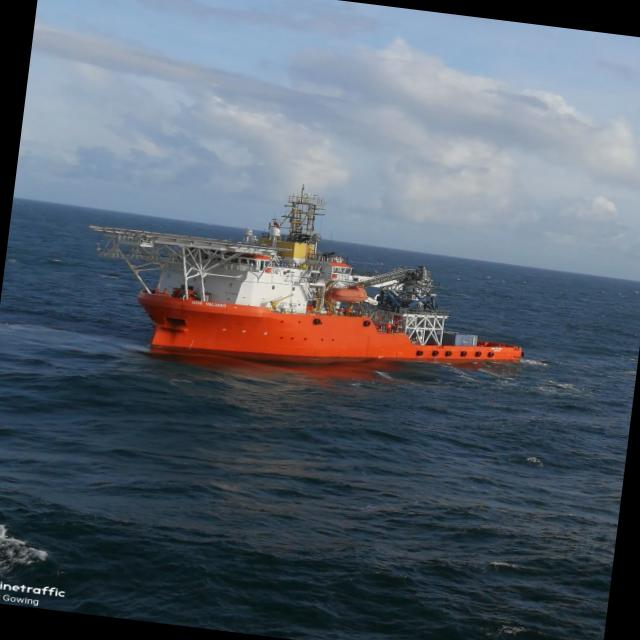Offshore: (91, 189, 522, 362)
